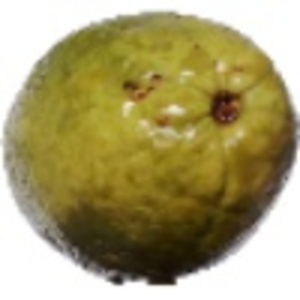goiaba: (1, 8, 299, 278)
